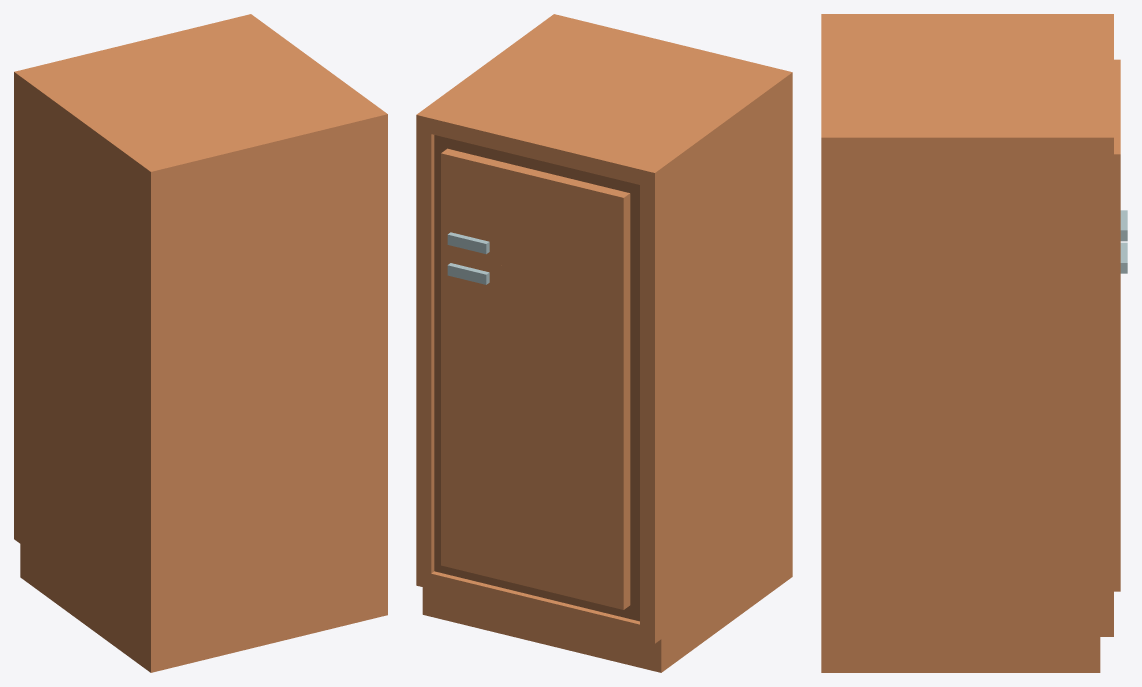
Rendered from kitchenFridgeBuiltIn.dae.
The picture shows the model from 3 angles, left to right: view 1: azimuth 30°, elevation 25°; view 2: azimuth 150°, elevation 25°; view 3: azimuth 270°, elevation 25°; orthographic projection. The views are drawn at different scales.
Visible parts, largest first — view 1: kitchenFridgeBuiltIn; view 2: kitchenFridgeBuiltIn, doorFridge, doorFreezer; view 3: kitchenFridgeBuiltIn, doorFridge, doorFreezer.
Part boxes in pixels (box(x1,y1,x2,y2)): kitchenFridgeBuiltIn: box(14, 14, 387, 672); kitchenFridgeBuiltIn: box(416, 14, 792, 672); doorFridge: box(441, 250, 630, 609); doorFreezer: box(441, 148, 630, 294); kitchenFridgeBuiltIn: box(821, 14, 1113, 672); doorFridge: box(1114, 242, 1127, 591); doorFreezer: box(1114, 59, 1127, 256).
Bounding box in the file's own units: 0.43 × 0.8687 × 0.45.
